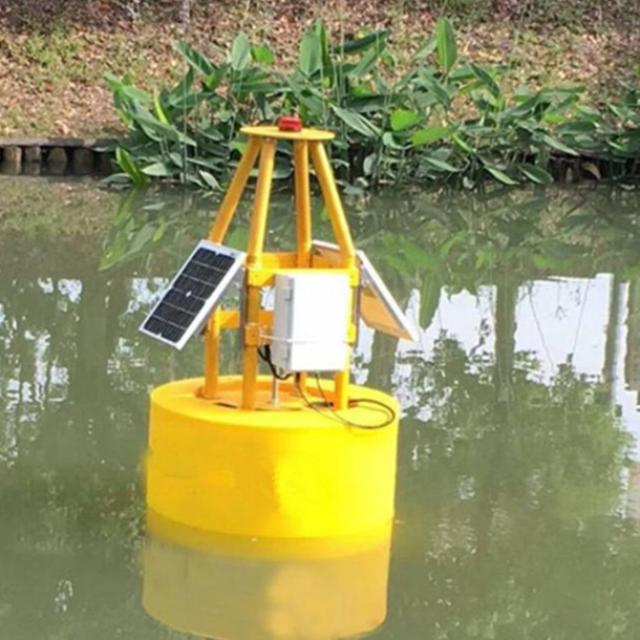buoy: (140, 109, 414, 546)
